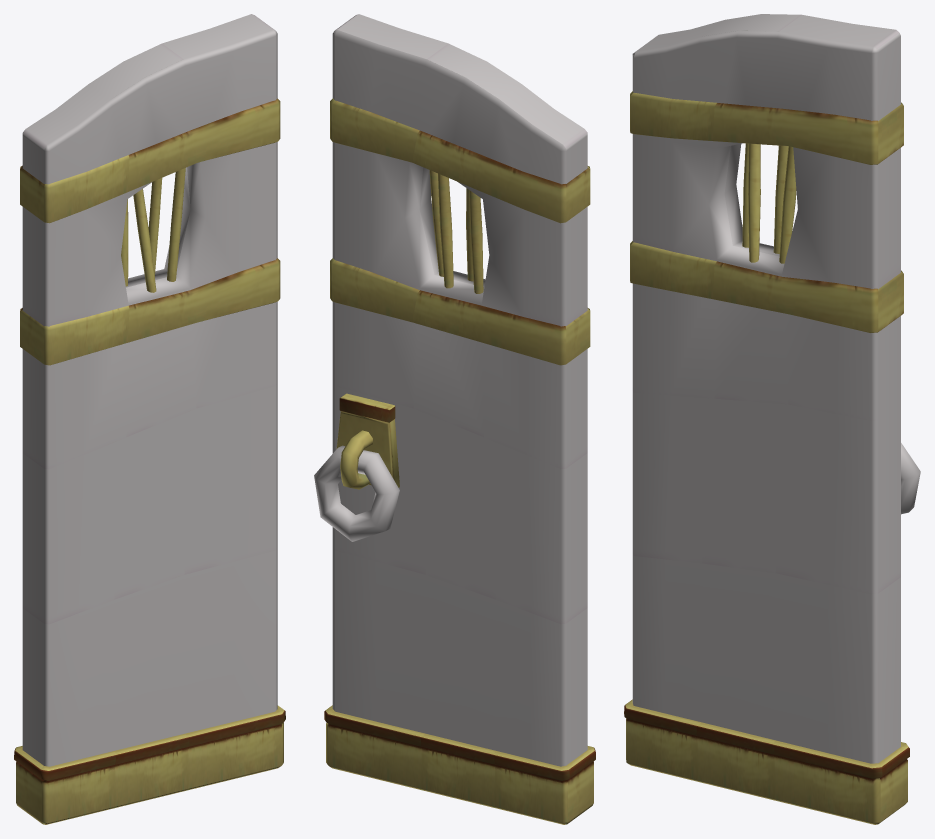
Rendered from SM_DoorFlipped.fbx.
3 views of the same model, side by side, from view 1: azimuth 30°, elevation 25°; view 2: azimuth 150°, elevation 25°; view 3: azimuth 330°, elevation 25° (orthographic). The views are drawn at different scales.
Visible parts, largest first — view 1: SM_DoorFlipped; view 2: SM_DoorFlipped; view 3: SM_DoorFlipped.
Part boxes in pixels (x1,y1,x2,y2): SM_DoorFlipped: (14,14,285,824); SM_DoorFlipped: (314,14,595,824); SM_DoorFlipped: (624,14,920,824).
Bounding box in the file's own units: 159 × 458 × 62.6.
Materials: 1 (1 with a texture image).
